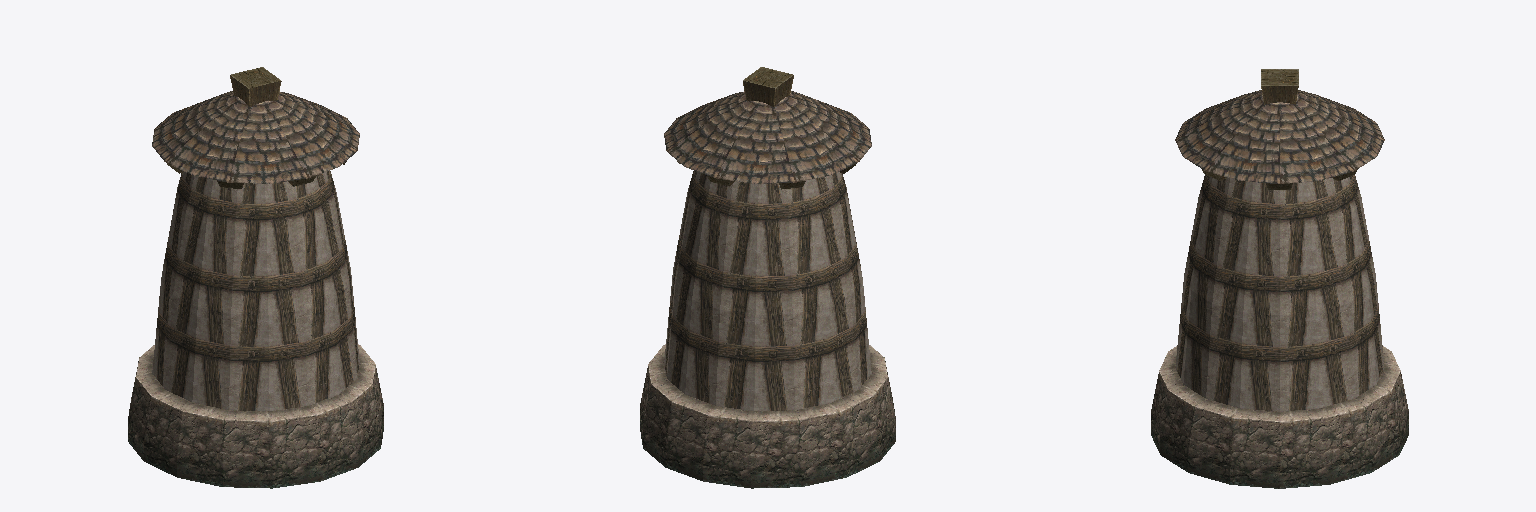
3 renders of one model, left to right at view 1: azimuth 30°, elevation 25°; view 2: azimuth 150°, elevation 25°; view 3: azimuth 270°, elevation 25°, orthographic.
Visible parts, largest first — view 1: silo_set0; view 2: silo_set0; view 3: silo_set0.
Part boxes in pixels (bbox=[...]): silo_set0: bbox=[128, 67, 383, 488]; silo_set0: bbox=[640, 67, 895, 488]; silo_set0: bbox=[1151, 69, 1408, 488].
Size of the model in its own units: 32.49 by 49.41 by 32.49.
6 materials, 6 textured.